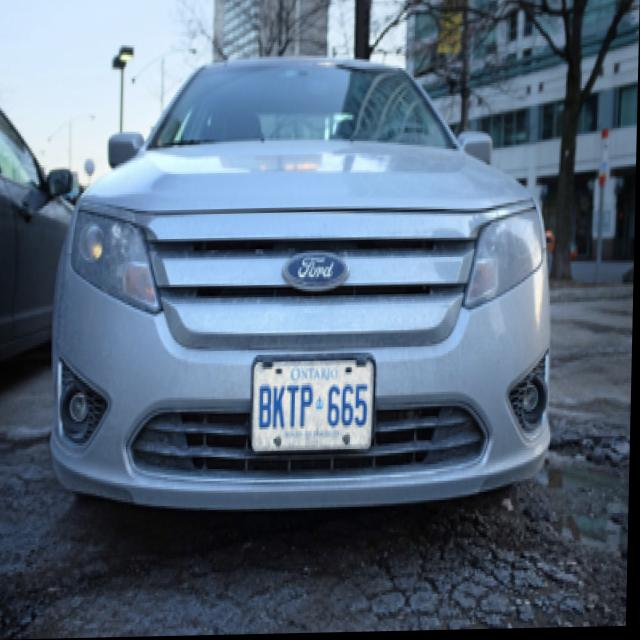licence: (253, 362, 375, 450)
